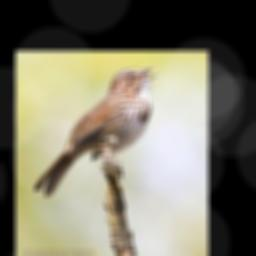Sparrow: (32, 63, 159, 198)
